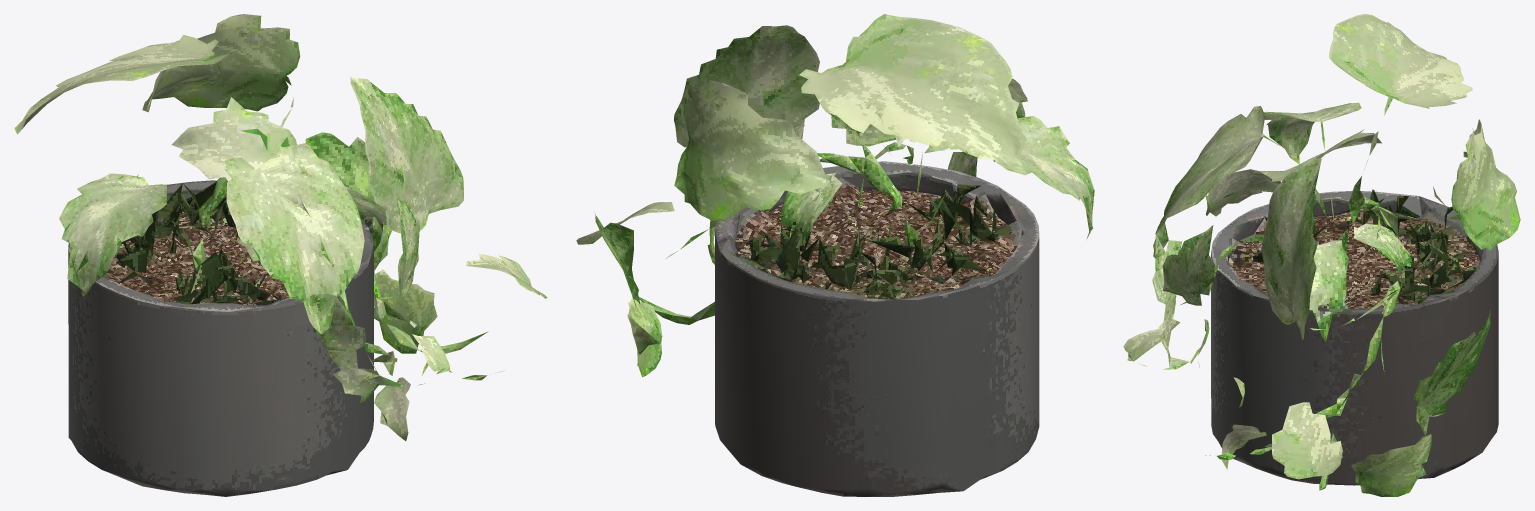
The model's file is gg_plant_pothos.glb.
The picture shows the model from 3 angles, left to right: view 1: azimuth 30°, elevation 25°; view 2: azimuth 150°, elevation 25°; view 3: azimuth 270°, elevation 25°; orthographic projection. The views are drawn at different scales.
Visible parts, largest first — view 1: mesh; view 2: mesh; view 3: mesh.
Part boxes in pixels (left/top/right/bottom): mesh: left=14, top=14, right=547, bottom=496; mesh: left=576, top=14, right=1094, bottom=496; mesh: left=1123, top=14, right=1520, bottom=496.
Bounding box in the file's own units: 1.08 × 0.855 × 0.8381.
Materials: 1 (1 with a texture image).
